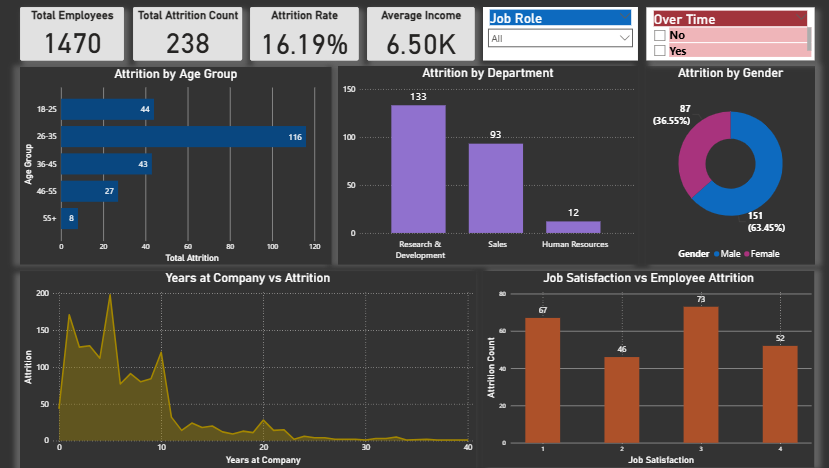

This screenshot's page, from the dashboard's own definition file:
{"tool":"powerbi","page":{"name":"Page 1","canvas":[1600,900],"ordinal":0},"visuals":[{"type":"card","title":"Total Employees","fields":{"Values":["Count(HR_Analytics.EmpID)"]},"box":[39.7,13.2,199.8,102.9],"z":0},{"type":"card","title":"Total Attrition Count","fields":{"Values":["Sum(HR_Analytics.Attrition Count)"]},"box":[257.1,13.2,210.1,102.9],"z":1000},{"type":"card","title":"Attrition Rate","fields":{"Values":["HR_Analytics.Attrition Rate"]},"box":[482,13.2,208.7,102.9],"z":2000},{"type":"card","title":"Average Income","fields":{"Values":["Avg(HR_Analytics.MonthlyIncome)"]},"box":[708.2,13.2,207.2,102.9],"z":3000},{"type":"columnChart","title":"Attrition by Department","fields":{"Category":["HR_Analytics.Department"],"Y":["Sum(HR_Analytics.Attrition Count)"]},"box":[652,126.7,576.7,382],"z":4000},{"type":"donutChart","title":"Attrition by Gender","fields":{"Category":["HR_Analytics.Gender"],"Y":["Sum(HR_Analytics.Attrition Count)"]},"box":[1243.5,126.7,325.1,382],"z":5000},{"type":"barChart","title":"Attrition by Age Group","fields":{"Y":["Sum(HR_Analytics.Attrition Count)"],"Category":["HR_Analytics.AgeGroup"]},"box":[40.4,128.6,598.8,380.2],"z":6000},{"type":"lineChart","title":"Years at Company vs Attrition","fields":{"Y":["CountNonNull(HR_Analytics.Attrition)"],"Category":["HR_Analytics.YearsAtCompany"]},"box":[40.4,521.6,876.1,378.4],"z":7000},{"type":"slicer","fields":{"Values":["HR_Analytics.OverTime"]},"box":[1243.5,12.9,325.1,102.9],"z":8000},{"type":"slicer","fields":{"Values":["HR_Analytics.JobRole"]},"box":[931.2,12.9,297.6,102.9],"z":9000},{"type":"clusteredColumnChart","title":"Job Satisfaction vs Employee Attrition","fields":{"Category":["HR_Analytics.JobSatisfaction"],"Y":["Sum(HR_Analytics.Attrition Count)"]},"box":[931.2,521.6,637.3,378.4],"z":10000}]}

Visuals, with their boxes in screenshot pixels (x1, y1, x2, y2), scaled from the page's 1600x900 canvas onto the 829x468 screenshot:
"Total Employees" card: [21,7,124,60]
"Total Attrition Count" card: [133,7,242,60]
"Attrition Rate" card: [250,7,358,60]
"Average Income" card: [367,7,474,60]
"Attrition by Department" columnChart: [338,66,637,265]
"Attrition by Gender" donutChart: [644,66,813,265]
"Attrition by Age Group" barChart: [21,67,331,265]
"Years at Company vs Attrition" lineChart: [21,271,475,467]
slicer - HR_Analytics.OverTime: [644,7,813,60]
slicer - HR_Analytics.JobRole: [482,7,637,60]
"Job Satisfaction vs Employee Attrition" clusteredColumnChart: [482,271,813,467]
